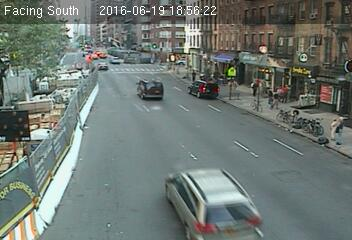neg: (134, 79, 146, 96)
pos: (188, 67, 200, 84)
